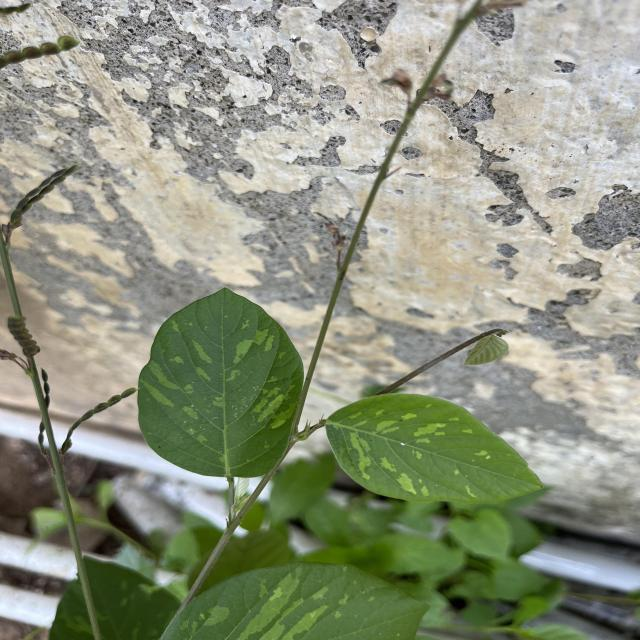Desmodium gangeticum: (132, 283, 308, 482), (323, 390, 547, 506)
